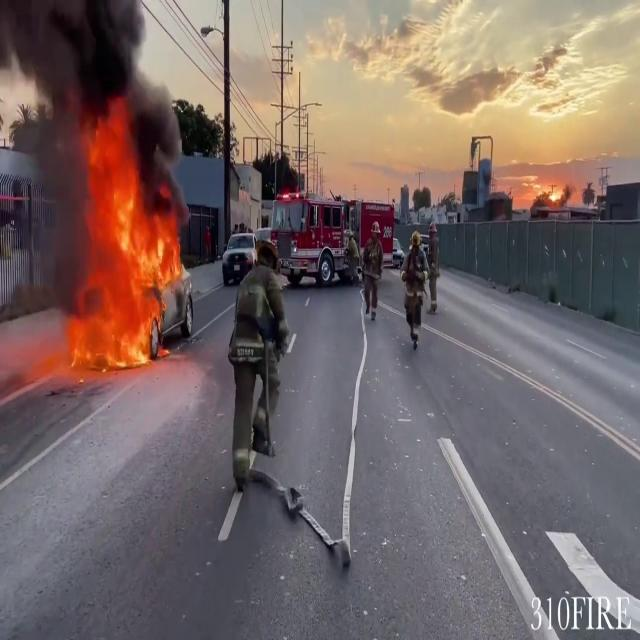Fire: (63, 111, 183, 373)
Smoke: (0, 0, 182, 179)
